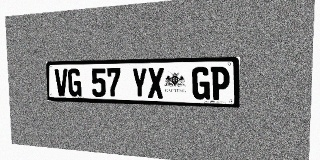5: (92, 68, 106, 97)
7: (106, 68, 121, 97)
G: (192, 67, 210, 100), (68, 69, 82, 96)
P: (211, 67, 230, 100)
V: (55, 69, 68, 96)
X: (148, 67, 164, 99)
Y: (131, 68, 147, 98)
